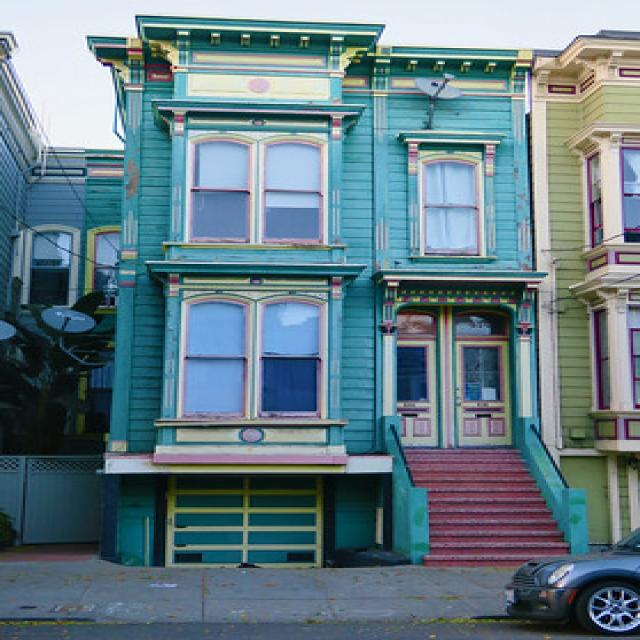building: (71, 13, 640, 568)
